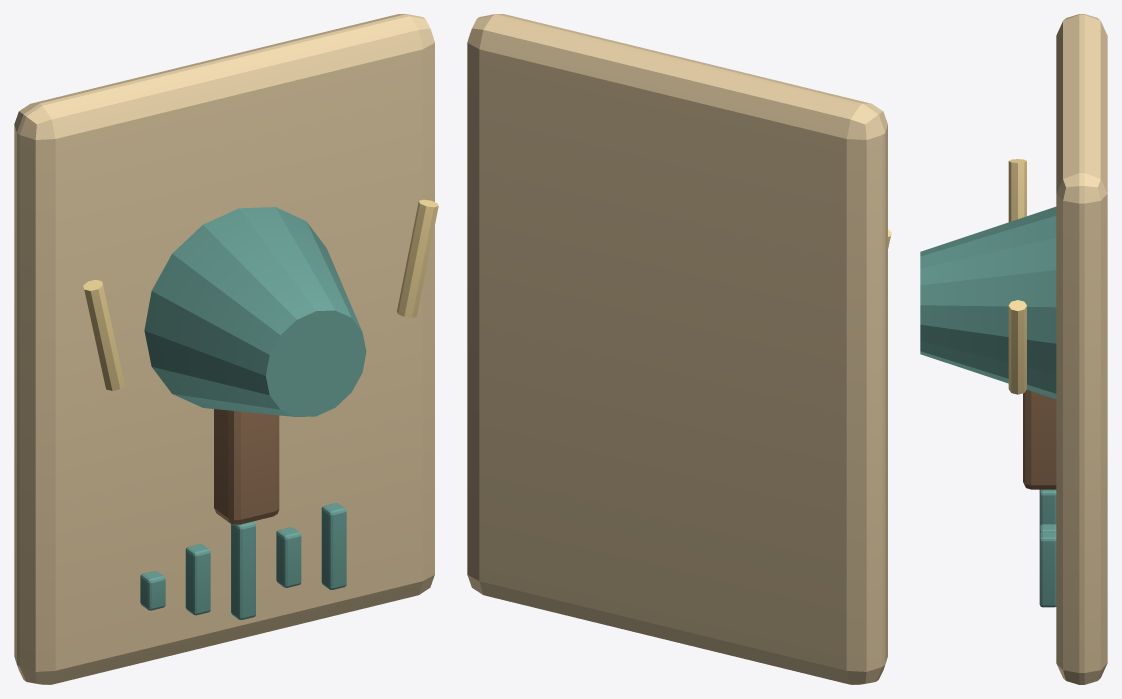
Rendered from voice_hype_coach.glb.
The picture shows the model from 3 angles, left to right: view 1: azimuth 30°, elevation 25°; view 2: azimuth 150°, elevation 25°; view 3: azimuth 270°, elevation 25°; orthographic projection. The views are drawn at different scales.
Visible parts, largest first — view 1: card, megaphone, handle, energy.001, waveform.002, energy, waveform.004, waveform.001, waveform.003, waveform; view 2: card; view 3: card, megaphone, handle, energy.001, waveform.004, energy, waveform.002.
Part boxes in pixels (x1=…): card: x1=14, y1=14, x2=434, y2=684; megaphone: x1=144, y1=207, x2=366, y2=416; handle: x1=214, y1=409, x2=279, y2=524; energy.001: x1=397, y1=199, x2=438, y2=317; waveform.002: x1=231, y1=521, x2=255, y2=619; energy: x1=83, y1=279, x2=124, y2=390; waveform.004: x1=321, y1=503, x2=346, y2=589; waveform.001: x1=185, y1=544, x2=210, y2=615; waveform.003: x1=276, y1=527, x2=301, y2=587; waveform: x1=140, y1=571, x2=165, y2=610; card: x1=467, y1=14, x2=887, y2=684; card: x1=1056, y1=14, x2=1107, y2=684; megaphone: x1=920, y1=206, x2=1056, y2=399; handle: x1=1023, y1=390, x2=1056, y2=489; energy.001: x1=1008, y1=300, x2=1026, y2=394; waveform.004: x1=1039, y1=532, x2=1056, y2=607; energy: x1=1008, y1=159, x2=1026, y2=221; waveform.002: x1=1039, y1=489, x2=1056, y2=526.
Size of the model in its own units: 0.82 by 1.1 by 0.365.
